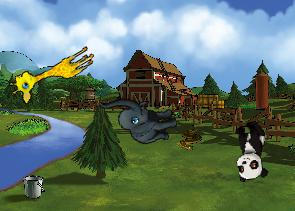elephant: (98, 81, 181, 155)
giraffe: (5, 35, 98, 107)
panda: (231, 119, 269, 182)
